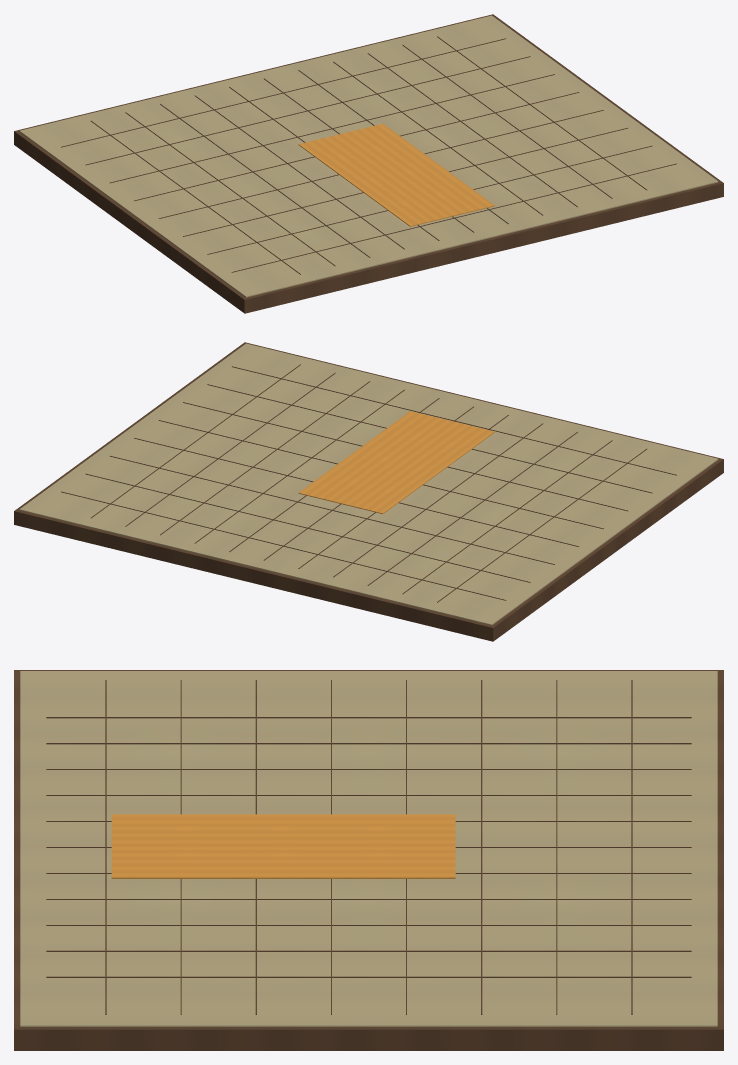
Rendered from atlas100-s016-a07.glb.
The picture shows the model from 3 angles, top to bottom: view 1: azimuth 30°, elevation 25°; view 2: azimuth 150°, elevation 25°; view 3: azimuth 270°, elevation 25°; orthographic projection. The views are drawn at different scales.
Visible parts, largest first — view 1: atlas100-s016-a07:part-001, atlas100-s016-a07:part-000, atlas100-s016-a07:part-021, atlas100-s016-a07:part-020, atlas100-s016-a07:part-014, atlas100-s016-a07:part-013, atlas100-s016-a07:part-015, atlas100-s016-a07:part-016, atlas100-s016-a07:part-018, atlas100-s016-a07:part-019, atlas100-s016-a07:part-017; view 2: atlas100-s016-a07:part-001, atlas100-s016-a07:part-000, atlas100-s016-a07:part-021, atlas100-s016-a07:part-013, atlas100-s016-a07:part-015, atlas100-s016-a07:part-014, atlas100-s016-a07:part-020, atlas100-s016-a07:part-017, atlas100-s016-a07:part-019, atlas100-s016-a07:part-016, atlas100-s016-a07:part-018; view 3: atlas100-s016-a07:part-001, atlas100-s016-a07:part-000, atlas100-s016-a07:part-021, atlas100-s016-a07:part-011, atlas100-s016-a07:part-012, atlas100-s016-a07:part-002, atlas100-s016-a07:part-003, atlas100-s016-a07:part-013, atlas100-s016-a07:part-014, atlas100-s016-a07:part-015, atlas100-s016-a07:part-020, atlas100-s016-a07:part-010 (+3 smaller).
Part boxes in pixels (x1,y1,x2,y2): atlas100-s016-a07:part-001: (19, 15, 718, 297); atlas100-s016-a07:part-000: (14, 14, 723, 313); atlas100-s016-a07:part-021: (298, 123, 494, 226); atlas100-s016-a07:part-020: (231, 163, 676, 272); atlas100-s016-a07:part-014: (85, 56, 530, 165); atlas100-s016-a07:part-013: (61, 38, 505, 147); atlas100-s016-a07:part-015: (110, 74, 554, 183); atlas100-s016-a07:part-016: (134, 92, 579, 201); atlas100-s016-a07:part-018: (183, 127, 627, 236); atlas100-s016-a07:part-019: (207, 145, 652, 254); atlas100-s016-a07:part-017: (158, 110, 603, 218); atlas100-s016-a07:part-001: (19, 343, 718, 625); atlas100-s016-a07:part-000: (14, 342, 723, 641); atlas100-s016-a07:part-021: (298, 411, 494, 513); atlas100-s016-a07:part-013: (61, 491, 506, 600); atlas100-s016-a07:part-015: (110, 455, 554, 564); atlas100-s016-a07:part-014: (85, 473, 530, 582); atlas100-s016-a07:part-020: (232, 366, 676, 475); atlas100-s016-a07:part-017: (158, 420, 603, 529); atlas100-s016-a07:part-019: (207, 384, 652, 493); atlas100-s016-a07:part-016: (134, 438, 579, 546); atlas100-s016-a07:part-018: (183, 402, 627, 511); atlas100-s016-a07:part-001: (20, 671, 717, 1026); atlas100-s016-a07:part-000: (14, 670, 723, 1050); atlas100-s016-a07:part-021: (111, 814, 455, 878); atlas100-s016-a07:part-011: (46, 950, 691, 951); atlas100-s016-a07:part-012: (46, 976, 691, 977); atlas100-s016-a07:part-002: (46, 717, 691, 718); atlas100-s016-a07:part-003: (46, 743, 691, 744); atlas100-s016-a07:part-013: (631, 680, 632, 1014); atlas100-s016-a07:part-014: (556, 680, 557, 1014); atlas100-s016-a07:part-015: (481, 680, 482, 1014); atlas100-s016-a07:part-020: (105, 680, 106, 1014); atlas100-s016-a07:part-010: (46, 925, 691, 925).
Size of the model in its own units: 12.46 by 0.404 by 10.4.
3 materials, 3 textured.
